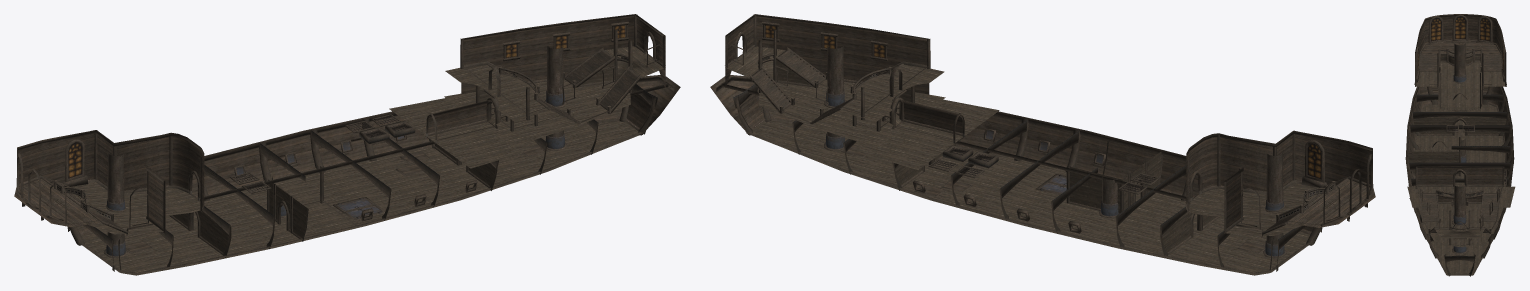
The model's file is eso_gu3_ShipInterior-transformed.glb.
3 views of the same model, side by side, from view 1: azimuth 30°, elevation 25°; view 2: azimuth 150°, elevation 25°; view 3: azimuth 270°, elevation 25° (orthographic). The views are drawn at different scales.
Visible parts, largest first — view 1: default; view 2: default; view 3: default.
Boxes of the visible parts, left/top/right/bottom form: default: left=14, top=14, right=680, bottom=275; default: left=710, top=14, right=1375, bottom=275; default: left=1405, top=14, right=1515, bottom=276.
Bounding box in the file's own units: 98.24 × 16.71 × 22.47.
7 materials, 7 textured.
